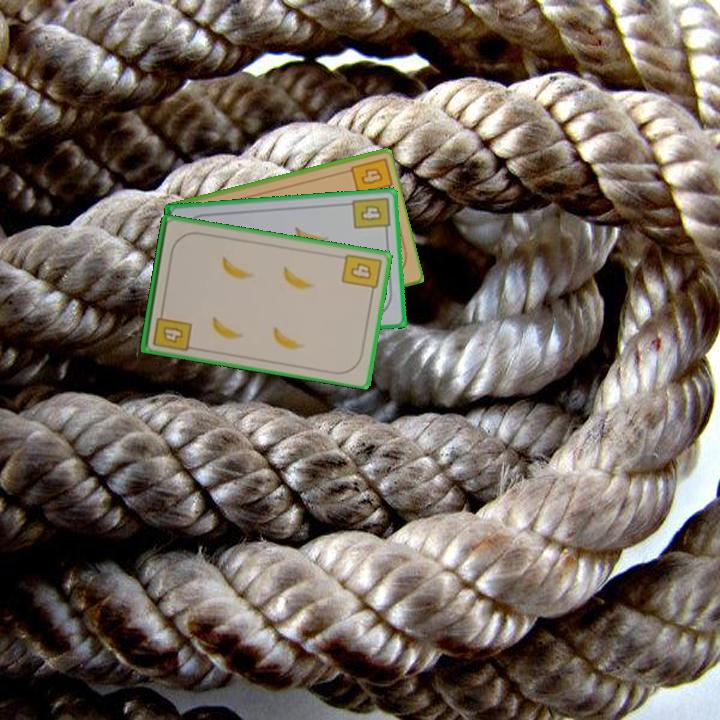4b: (338, 250, 384, 298), (149, 305, 194, 354), (349, 193, 392, 237), (358, 164, 386, 187)
